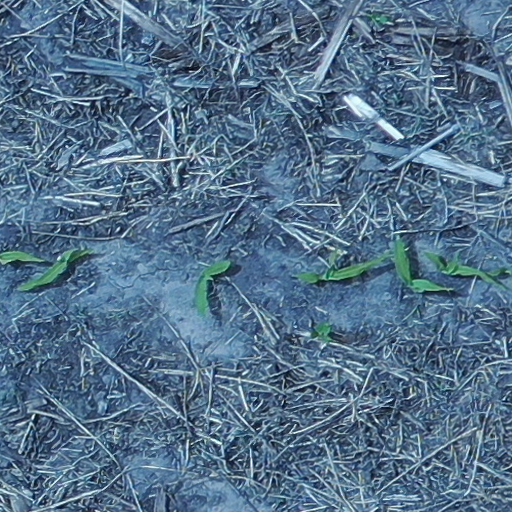planta: (17, 248, 94, 290), (295, 249, 389, 282), (396, 238, 453, 292), (195, 261, 230, 313), (424, 252, 486, 276), (479, 269, 510, 288)
